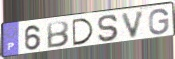6: (23, 24, 42, 51)
B: (46, 20, 71, 50)
D: (71, 17, 96, 47)
G: (148, 8, 170, 36)
S: (97, 14, 121, 43)
V: (120, 9, 147, 39)
